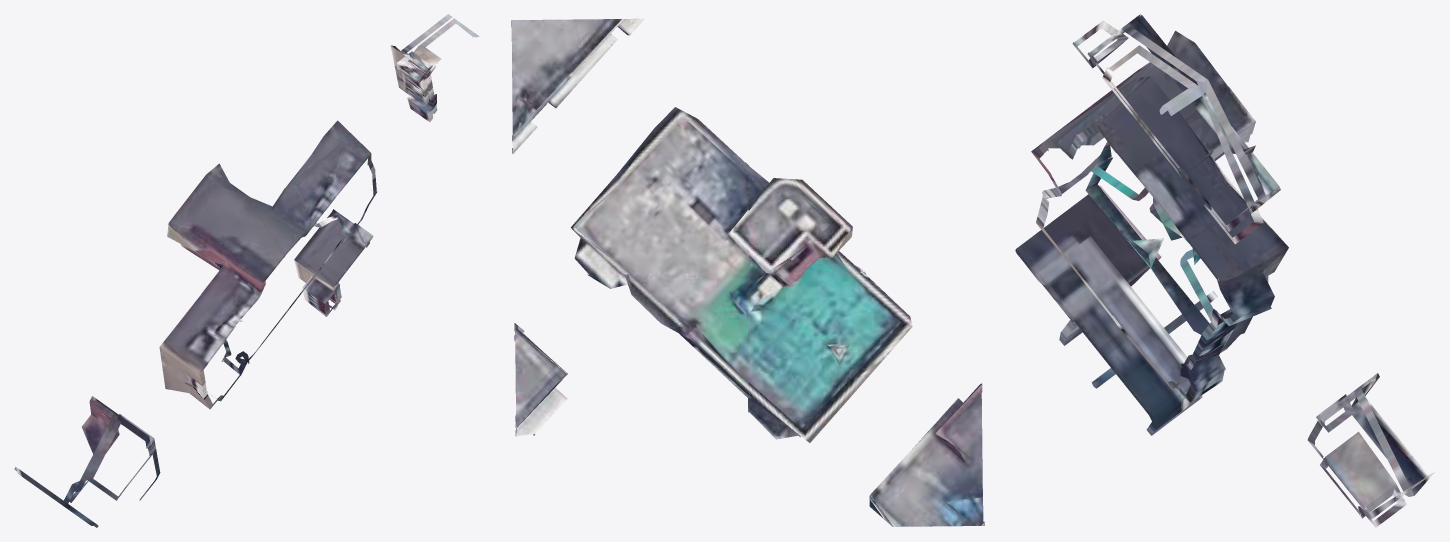
3 views of the same model, side by side, from view 1: azimuth 30°, elevation 25°; view 2: azimuth 150°, elevation 25°; view 3: azimuth 270°, elevation 25° (orthographic). The views are drawn at different scales.
Size of the model in its own units: 42.44 by 36.04 by 22.69.
Materials: 1 (1 with a texture image).
